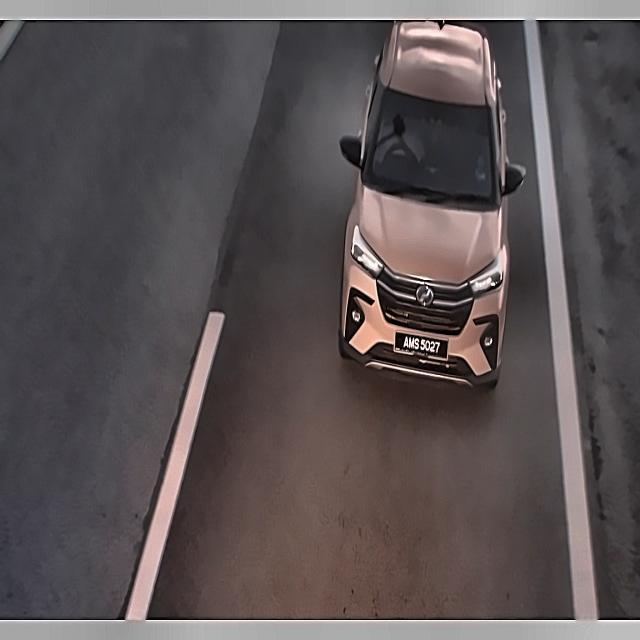car: (392, 329, 450, 366)
